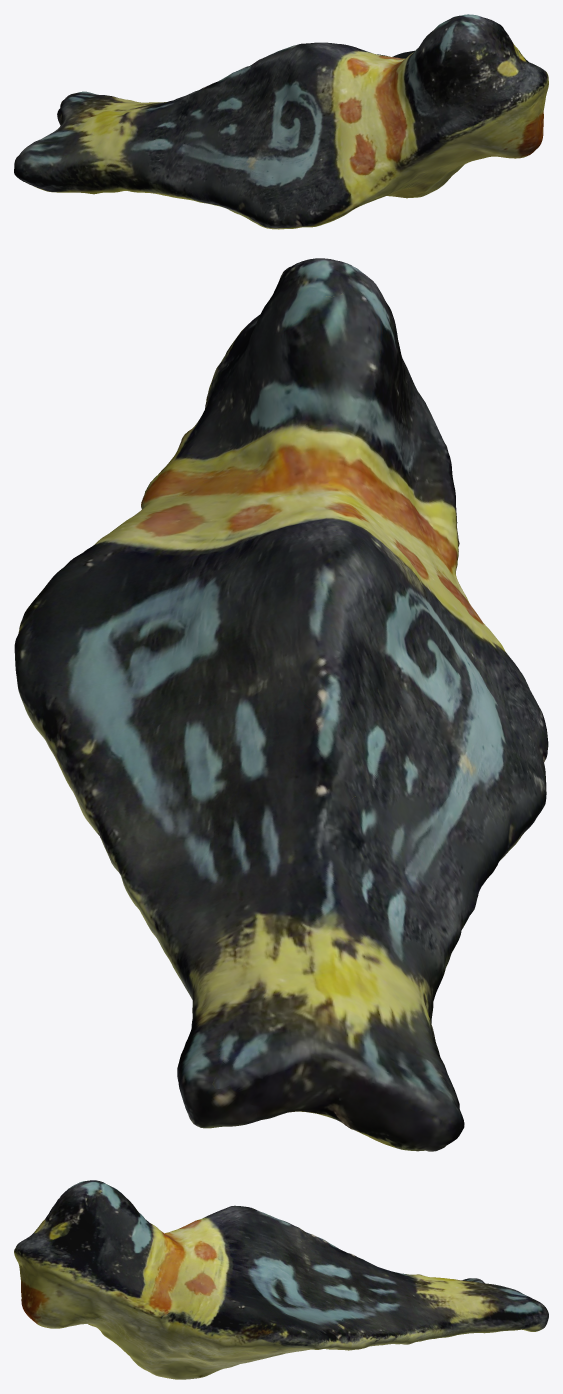
The picture shows the model from 3 angles, top to bottom: view 1: azimuth 30°, elevation 25°; view 2: azimuth 150°, elevation 25°; view 3: azimuth 270°, elevation 25°; orthographic projection. The views are drawn at different scales.
Size of the model in its own units: 0.5244 by 0.3832 by 0.7566.
1 material, 1 textured.
